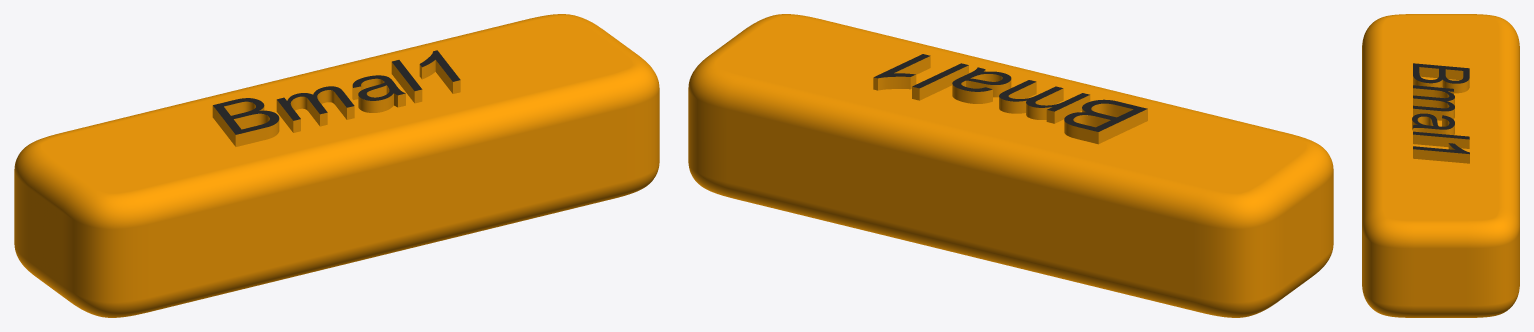
File: Bmal1.glb
The picture shows the model from 3 angles, left to right: view 1: azimuth 30°, elevation 25°; view 2: azimuth 150°, elevation 25°; view 3: azimuth 270°, elevation 25°; orthographic projection. The views are drawn at different scales.
Size of the model in its own units: 0.05 by 0.011 by 0.015.
